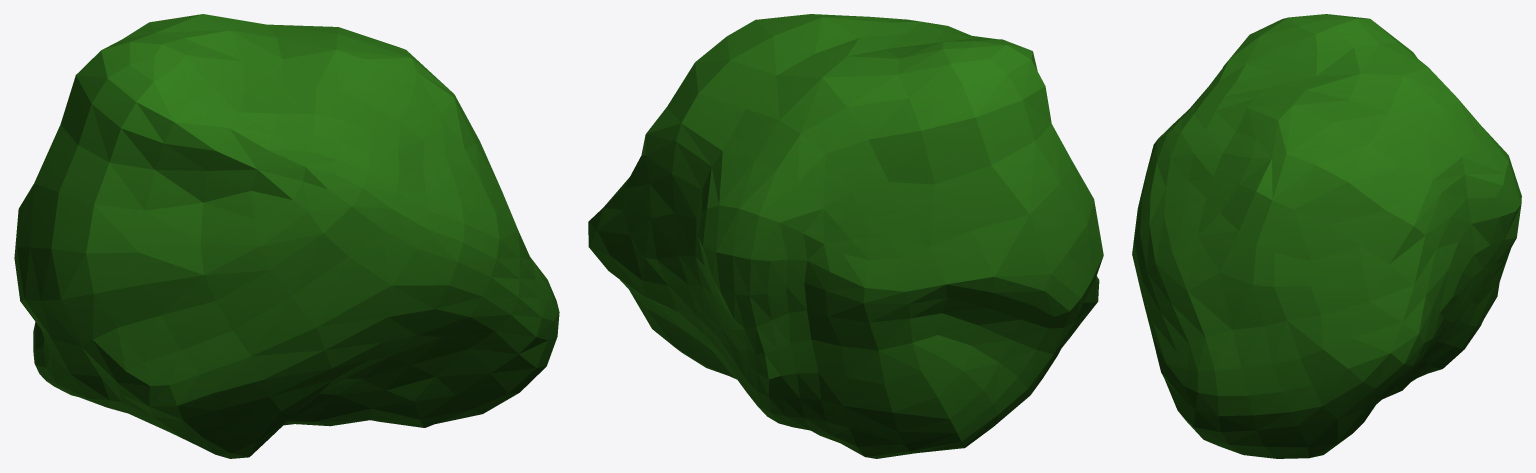
Rendered from Prefab_Foliage_Bush_RandomGen.glb.
The picture shows the model from 3 angles, left to right: view 1: azimuth 30°, elevation 25°; view 2: azimuth 150°, elevation 25°; view 3: azimuth 270°, elevation 25°; orthographic projection. The views are drawn at different scales.
Visible parts, largest first — view 1: Bush_RandomGen_A; view 2: Bush_RandomGen_A; view 3: Bush_RandomGen_A.
Part boxes in pixels (x1,y1,x2,y2): Bush_RandomGen_A: (14,14,559,458); Bush_RandomGen_A: (588,14,1103,458); Bush_RandomGen_A: (1132,14,1521,458).
Bounding box in the file's own units: 1.01 × 0.7973 × 0.8561.
1 material, 1 textured.
